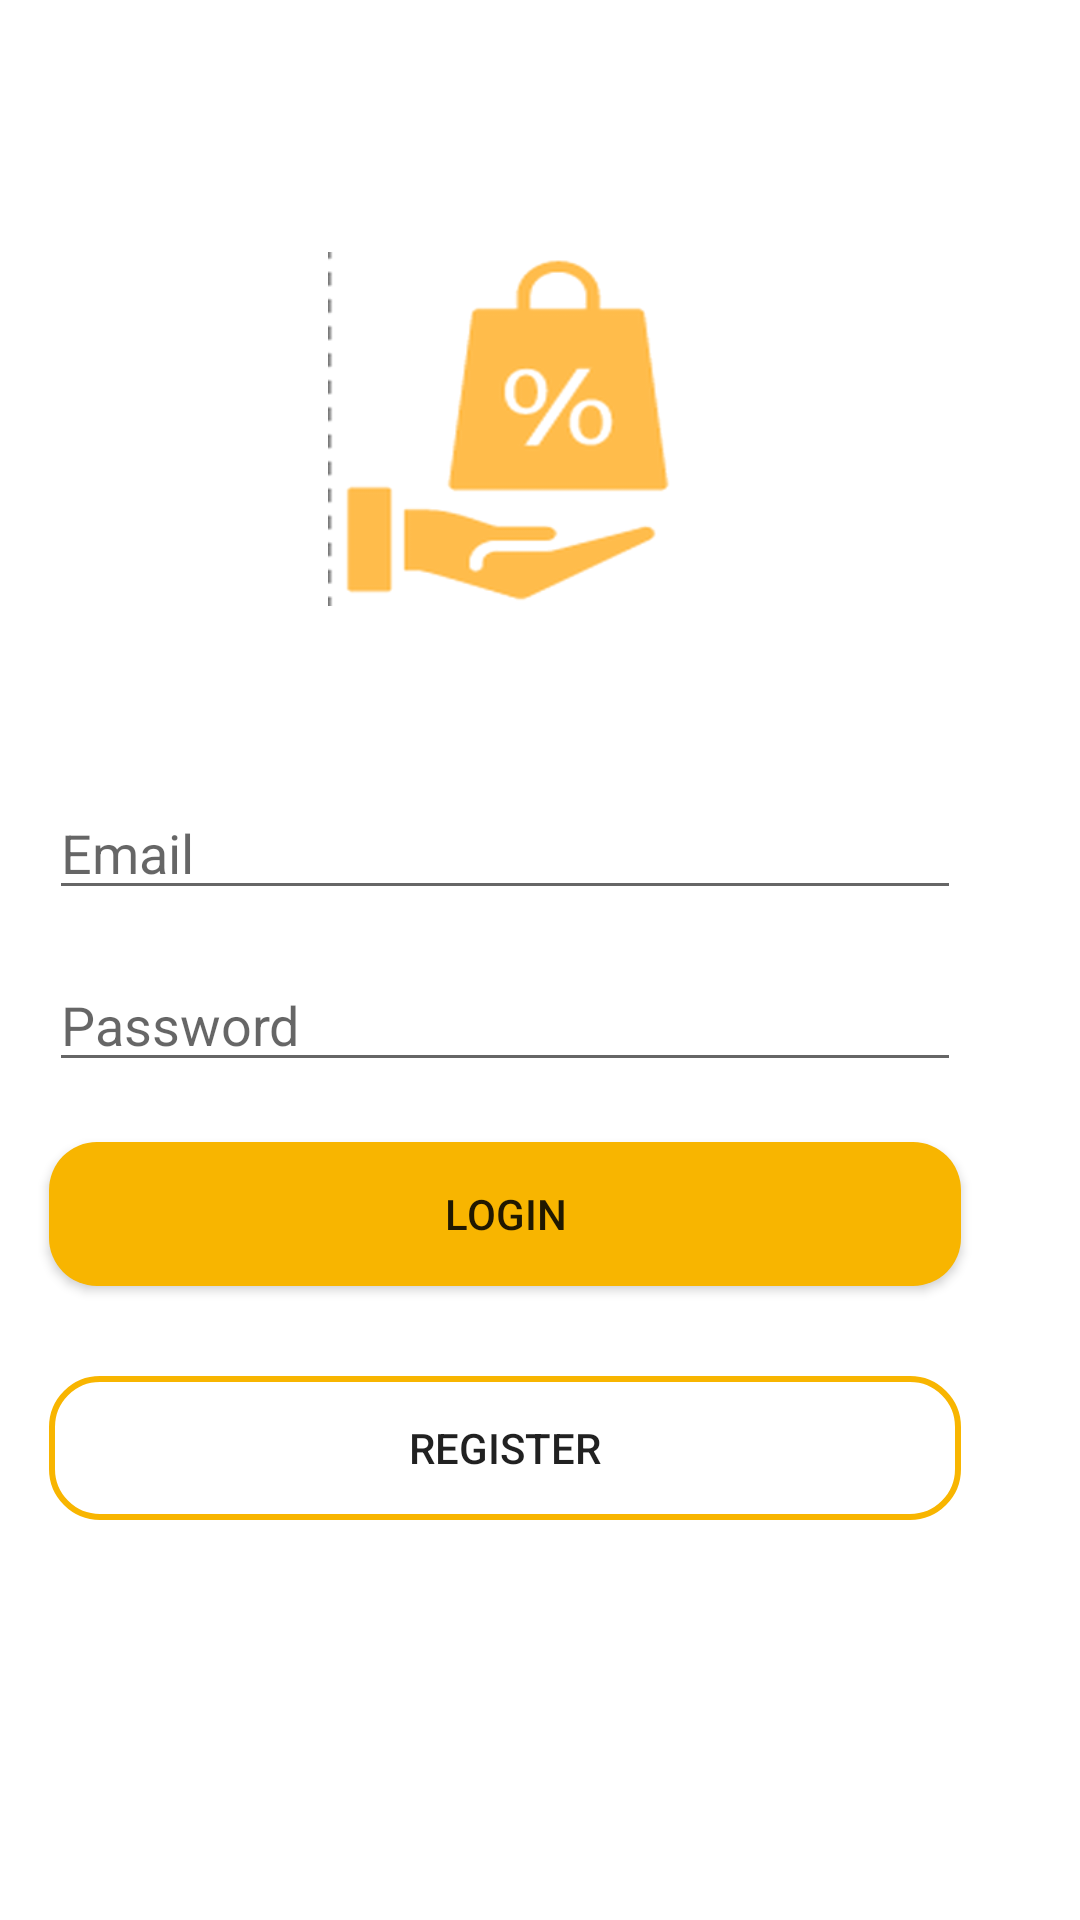

Icon bounding boxes for this 1080×1920 phone screenshot, format Rect(x1, y1, x2, y2):
iconapptiendaa: Rect(328, 252, 669, 606)
